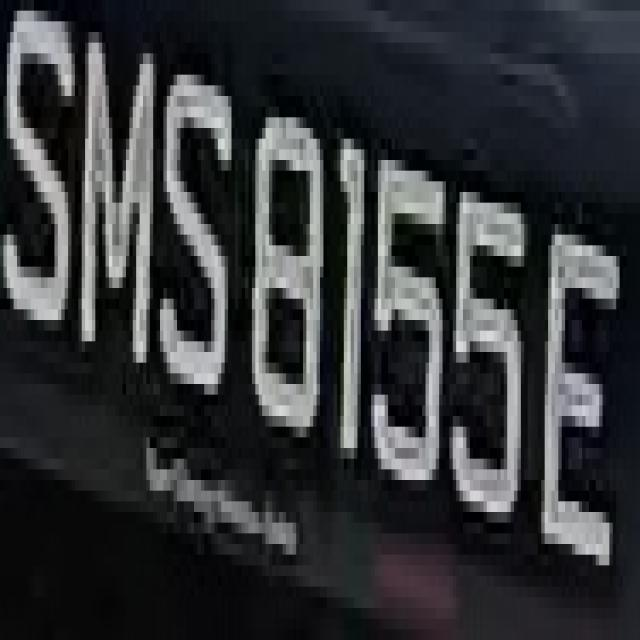1: (334, 96, 374, 491)
5: (446, 160, 528, 576), (364, 107, 443, 512)
8: (242, 96, 334, 480)
E: (541, 160, 630, 597)
M: (75, 21, 163, 427)
S: (160, 21, 238, 427), (10, 11, 75, 330)
